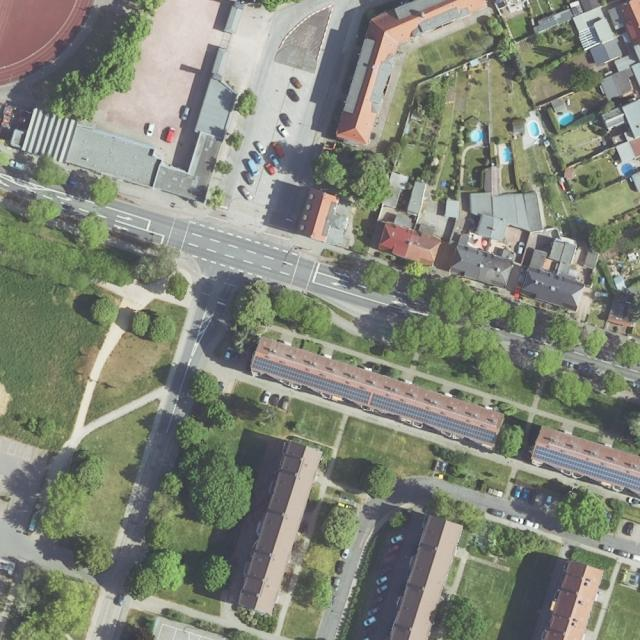PV: (252, 354, 497, 446), (533, 444, 640, 491)
